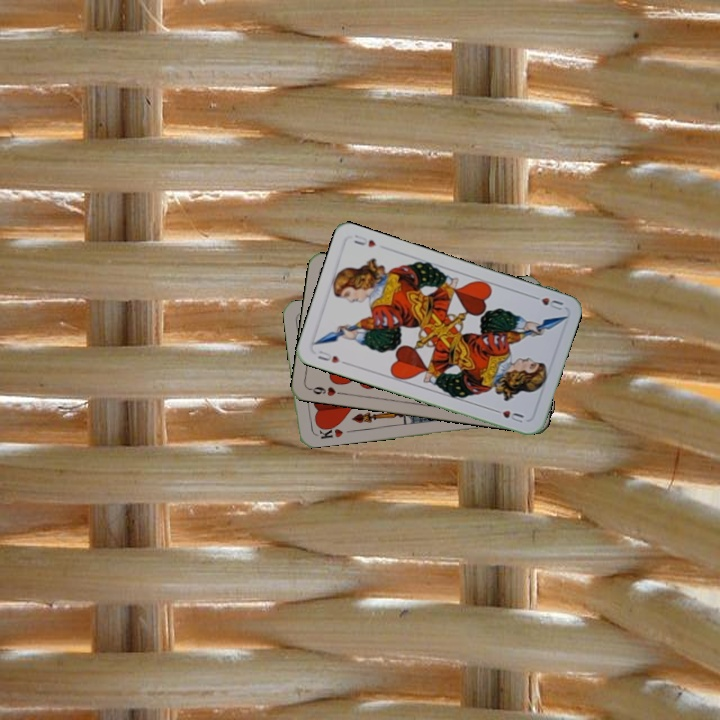H9: (306, 382, 346, 399)
HK: (311, 420, 345, 442)
HU: (527, 291, 566, 313), (314, 346, 343, 366)
